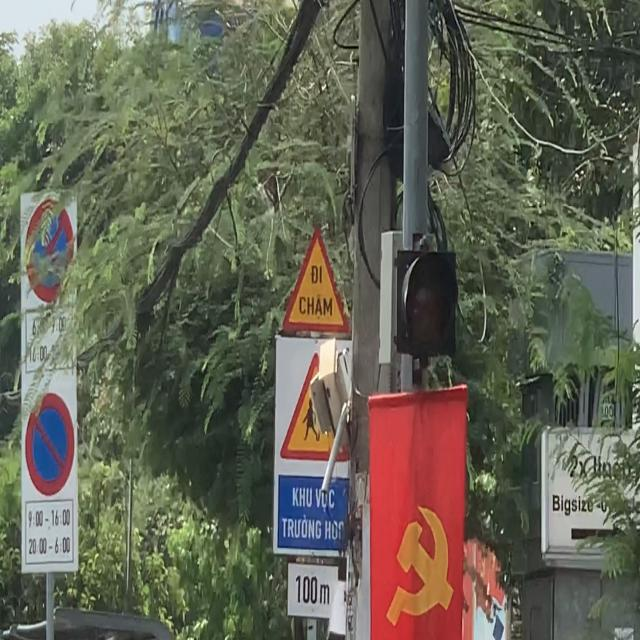Cam do: (25, 392, 75, 497)
Cam dung va do: (24, 198, 75, 305)
Nguy hiem: (283, 225, 351, 333)
